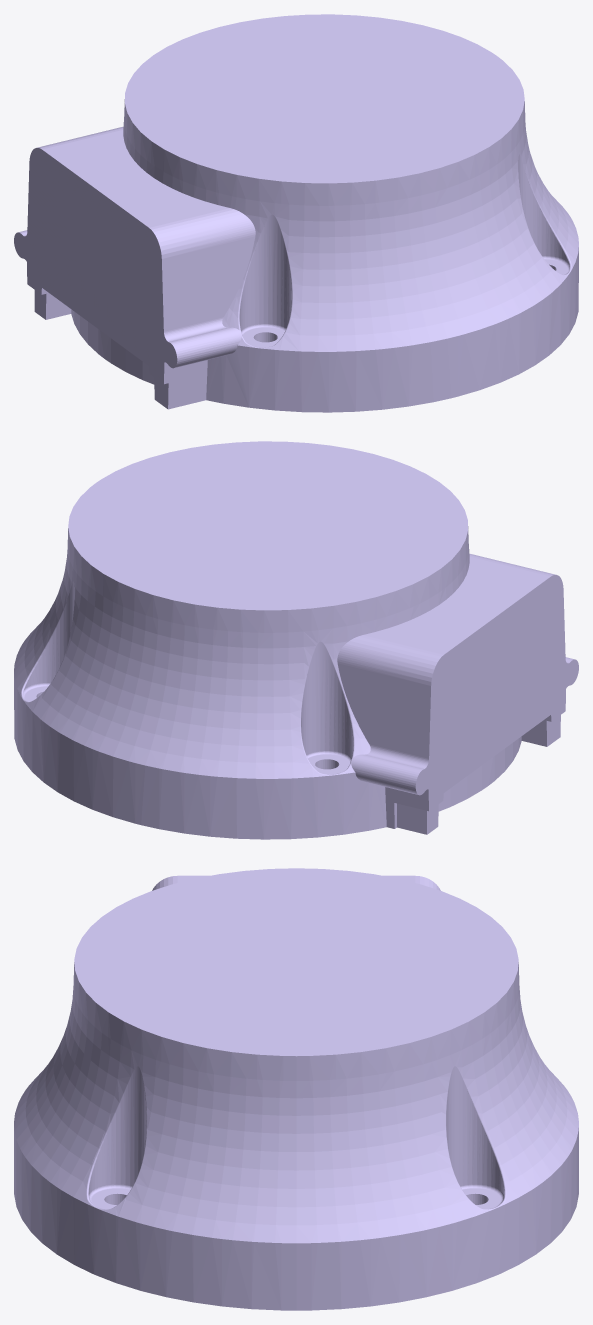
Rendered from FanucCRX10IALink0.dae.
3 views of the same model, one above another, from view 1: azimuth 30°, elevation 25°; view 2: azimuth 150°, elevation 25°; view 3: azimuth 270°, elevation 25° (orthographic). The views are drawn at different scales.
Visible parts, largest first — view 1: CRX10IALink0; view 2: CRX10IALink0; view 3: CRX10IALink0.
Part boxes in pixels (x1,y1,x2,y2): CRX10IALink0: (14,14,578,412); CRX10IALink0: (14,441,578,839); CRX10IALink0: (14,868,578,1310).
Size of the model in its own units: 0.1938 by 0.19 by 0.085.
